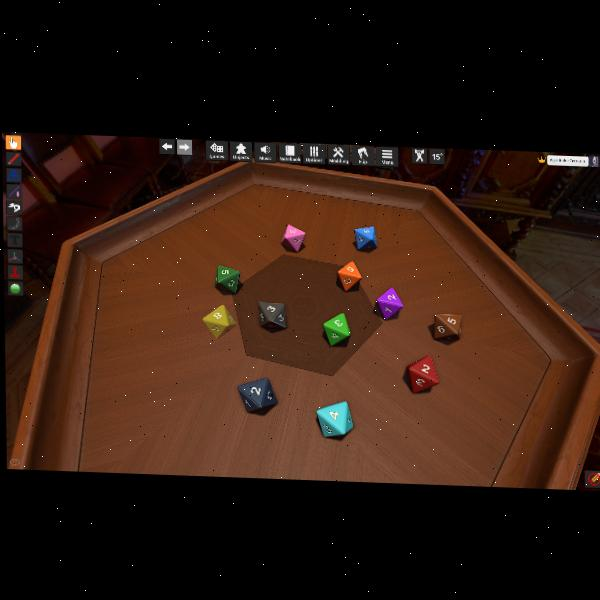d8: (316, 400, 352, 438), (237, 376, 276, 411), (202, 303, 235, 339), (408, 355, 437, 394), (323, 312, 350, 346), (376, 287, 403, 319), (258, 300, 285, 329), (432, 312, 459, 340), (215, 265, 241, 294), (337, 260, 361, 291), (281, 223, 306, 252), (354, 224, 377, 251)
